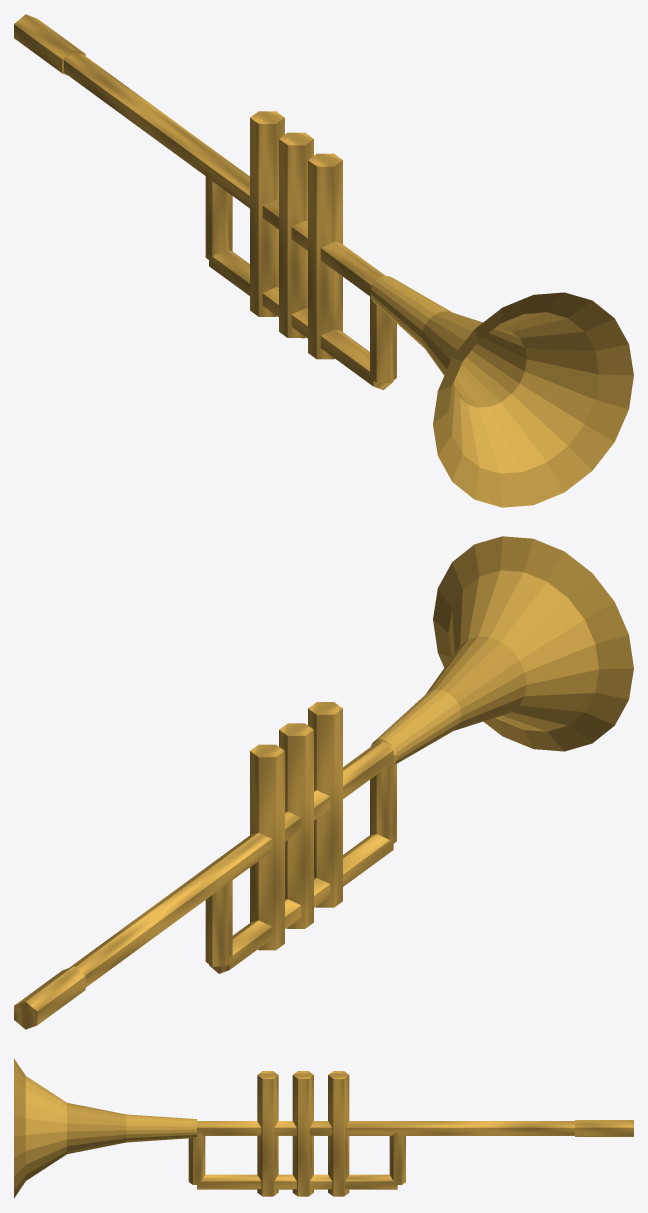
File: trompeta.obj
The picture shows the model from 3 angles, top to bottom: view 1: azimuth 30°, elevation 25°; view 2: azimuth 150°, elevation 25°; view 3: azimuth 270°, elevation 25°; orthographic projection. The views are drawn at different scales.
Parts seen in each view (by area): view 1: trompeta; view 2: trompeta; view 3: trompeta.
Boxes of the visible parts, left/top/right/bottom form: trompeta: left=14, top=14, right=633, bottom=507; trompeta: left=14, top=536, right=633, bottom=1029; trompeta: left=14, top=1058, right=633, bottom=1198.
Bounding box in the file's own units: 0.12 × 0.12 × 0.525.
